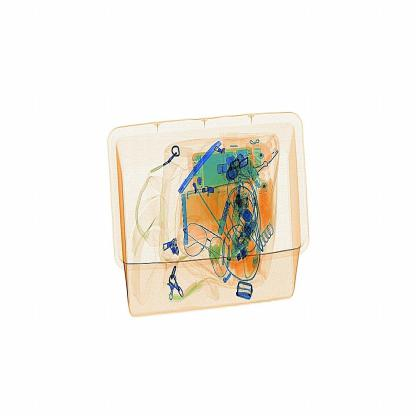pliers: (175, 126, 231, 198)
